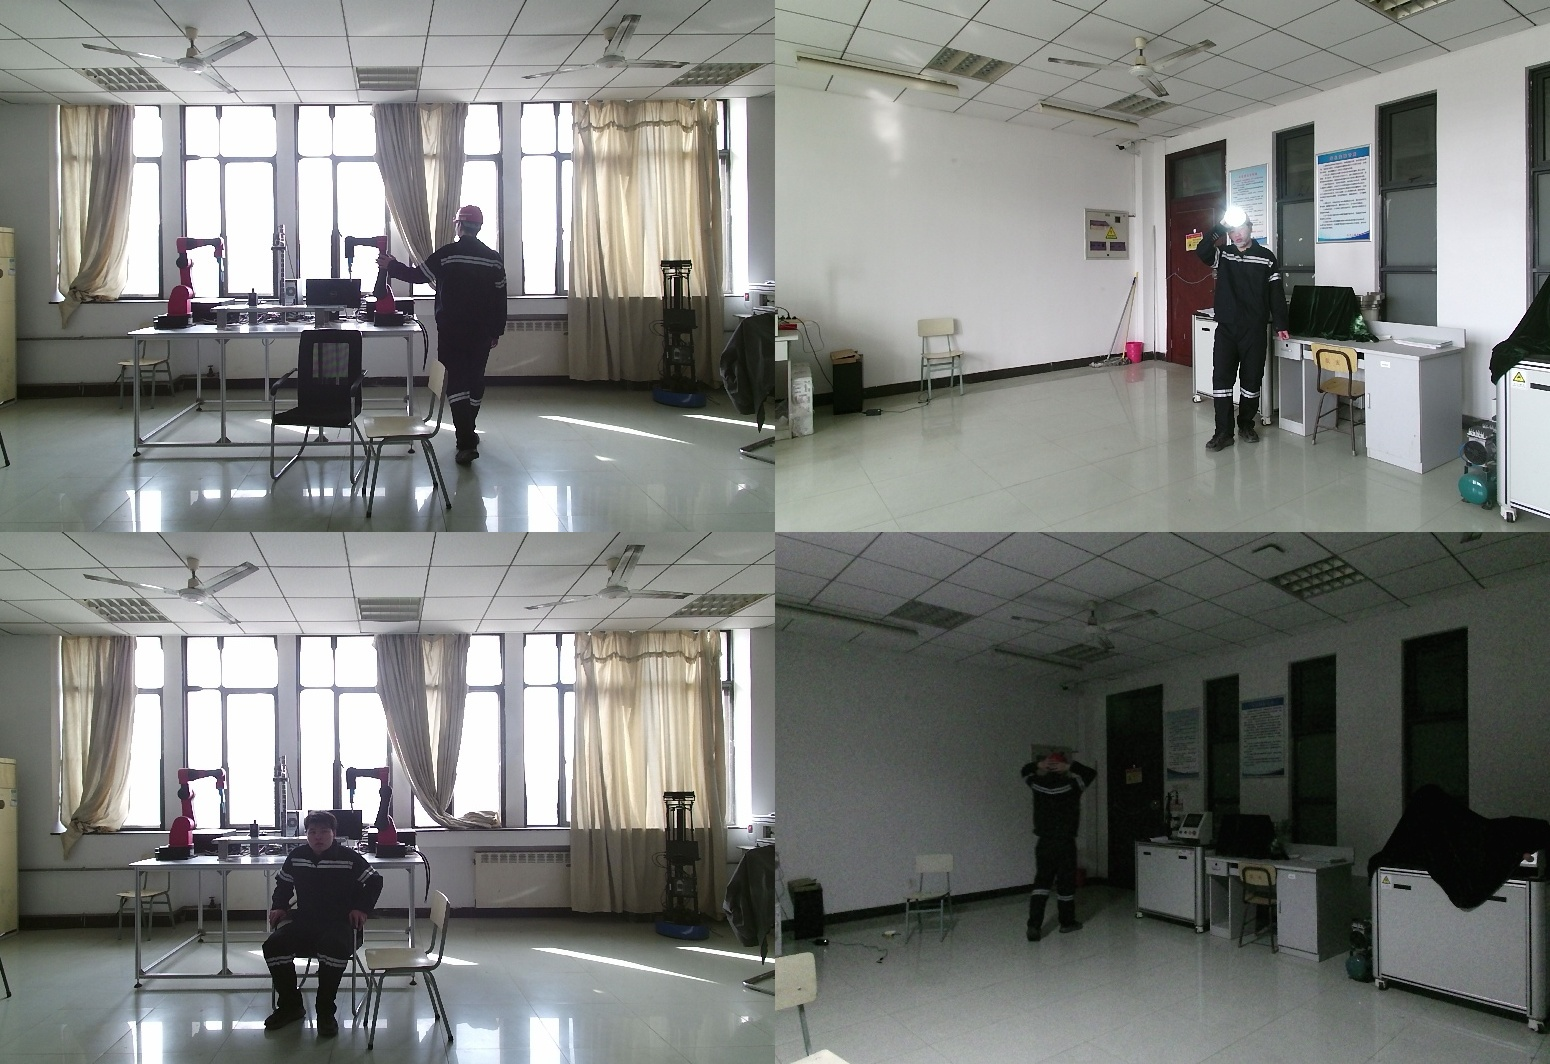person: (379, 204, 520, 471), (264, 812, 390, 1036), (1201, 207, 1296, 455), (1011, 754, 1092, 952)
